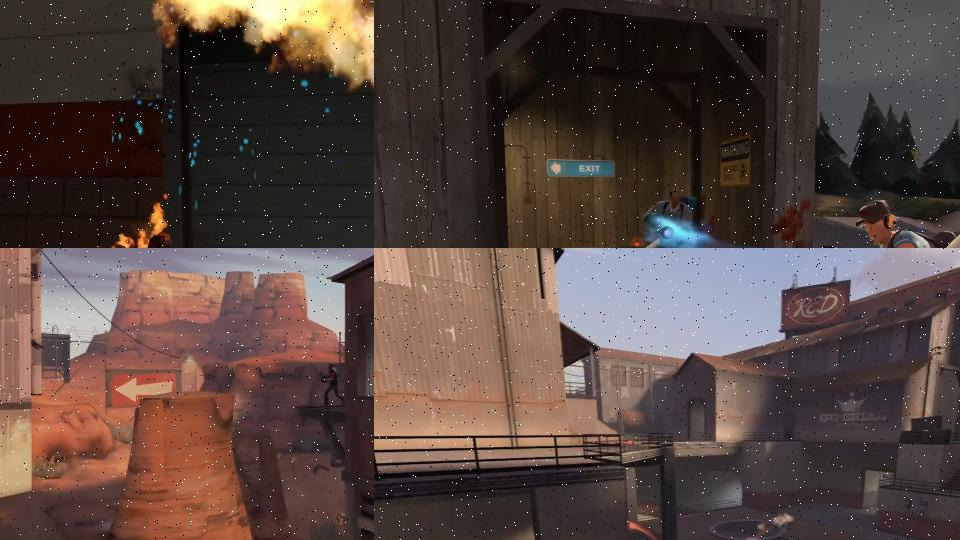Enemy: (819, 196, 957, 248), (629, 187, 698, 248), (80, 228, 177, 248), (315, 363, 345, 406)
